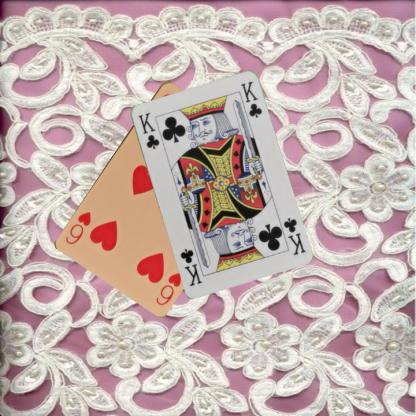6h: (153, 269, 183, 307)
Kc: (280, 215, 307, 256), (135, 109, 161, 150)
